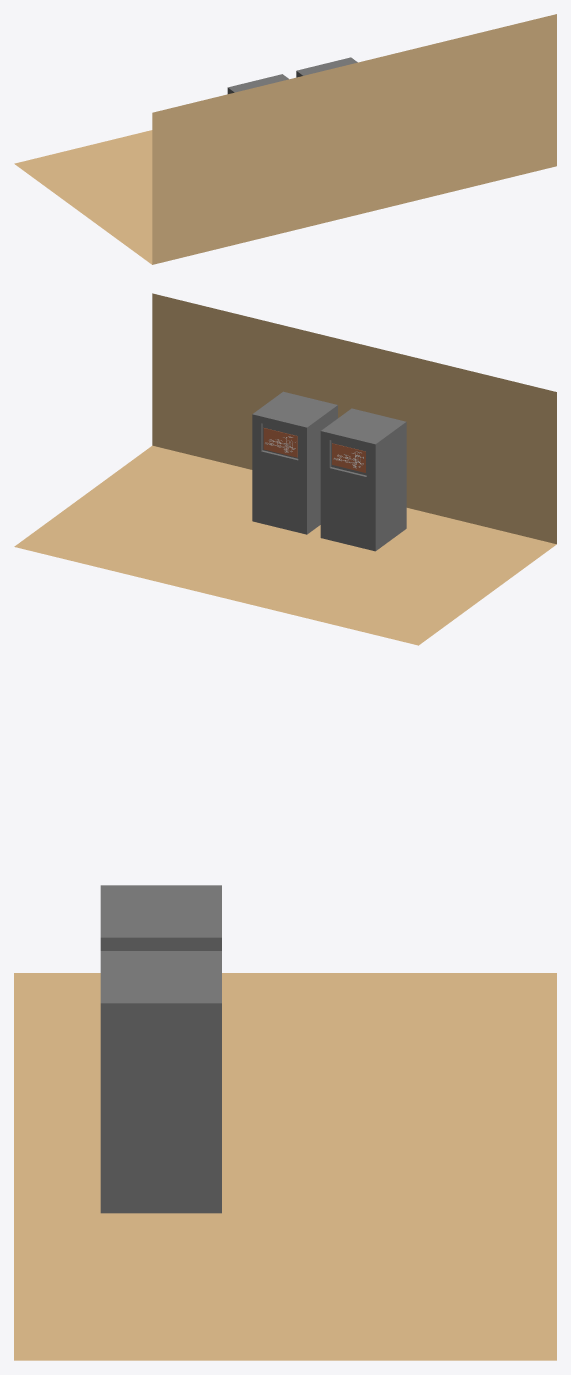
Rendered from pemancar.gltf.
3 renders of one model, top to bottom at view 1: azimuth 30°, elevation 25°; view 2: azimuth 150°, elevation 25°; view 3: azimuth 270°, elevation 25°, orthographic. The views are drawn at different scales.
Visible parts, largest first — view 1: bg.001, Cube, Cube.001; view 2: bg.001, Cube, Cube.001, Plane.027, Plane.036; view 3: bg.001, Cube.001, Cube.
Boxes of the visible parts, <box> form: bg.001: <box>14,14,556,264</box>; Cube: <box>227,74,288,93</box>; Cube.001: <box>296,57,357,77</box>; bg.001: <box>14,293,556,645</box>; Cube: <box>320,408,406,551</box>; Cube.001: <box>252,391,337,534</box>; Plane.027: <box>263,428,297,457</box>; Plane.036: <box>332,443,365,472</box>; bg.001: <box>14,973,556,1360</box>; Cube.001: <box>100,951,221,1213</box>; Cube: <box>100,885,221,950</box>.
Bounding box in the file's own units: 49.18 × 17.68 × 29.12.
